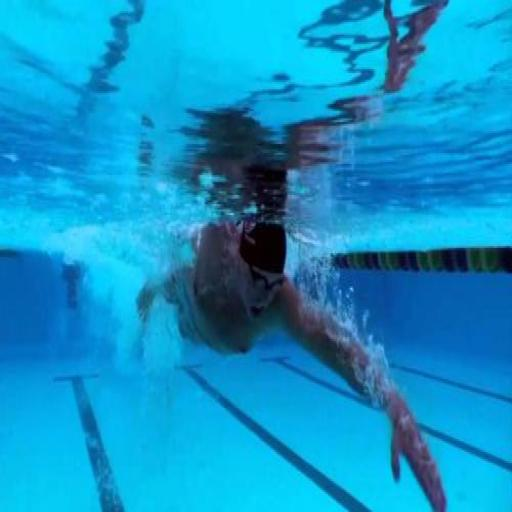swimming: (131, 212, 450, 510)
